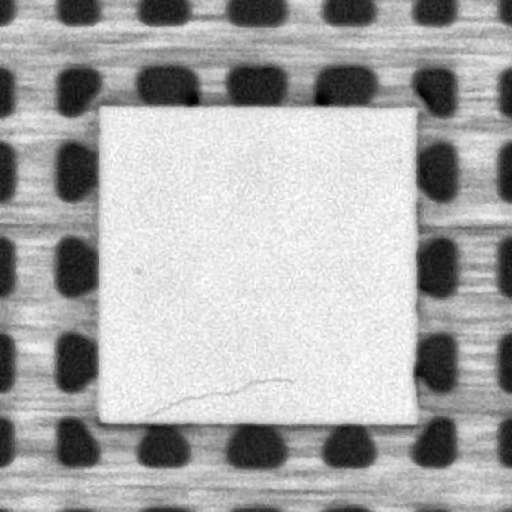DIE_CRACK: (141, 380, 295, 416)
